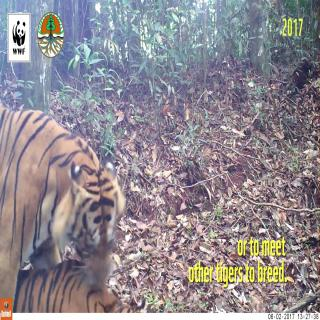Tiger: (0, 100, 138, 272), (19, 246, 148, 304)
